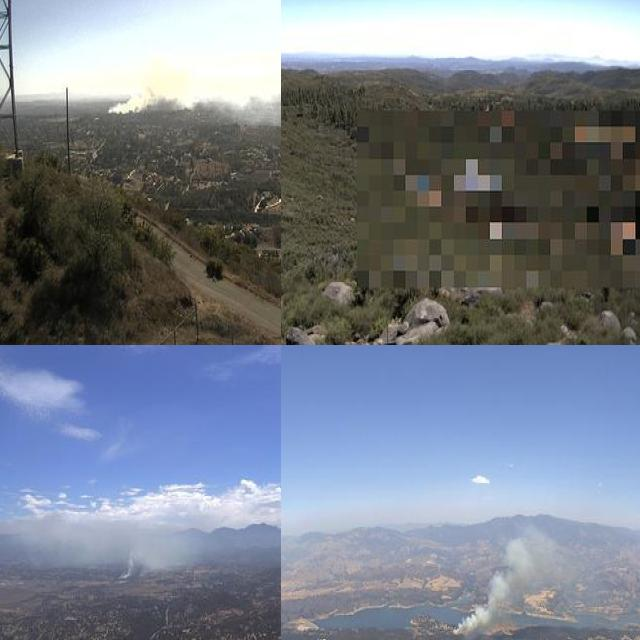smoke: (448, 516, 574, 638), (9, 508, 206, 581), (107, 64, 281, 123)
